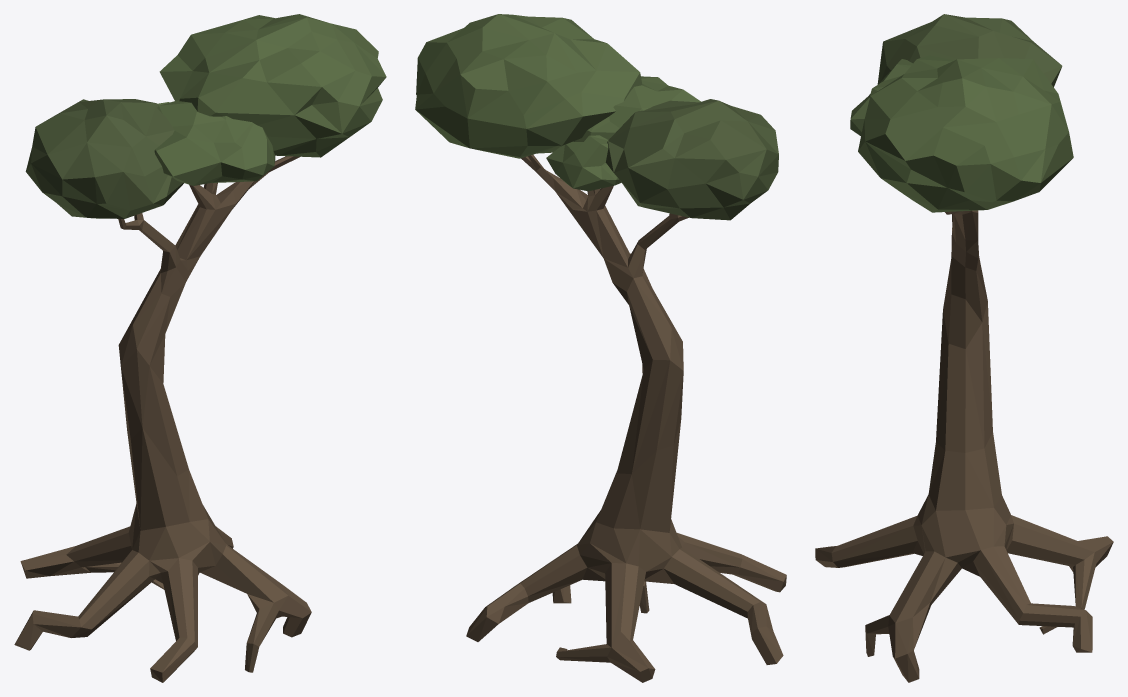
File: SM_Envr_Nature_Tree_Large_04.fbx
The picture shows the model from 3 angles, left to right: view 1: azimuth 30°, elevation 25°; view 2: azimuth 150°, elevation 25°; view 3: azimuth 270°, elevation 25°; orthographic projection. The views are drawn at different scales.
Parts seen in each view (by area): view 1: SM_Envr_Nature_Tree_Large_04; view 2: SM_Envr_Nature_Tree_Large_04; view 3: SM_Envr_Nature_Tree_Large_04.
Part boxes in pixels (left/top/right/bottom): SM_Envr_Nature_Tree_Large_04: left=14, top=14, right=386, bottom=682; SM_Envr_Nature_Tree_Large_04: left=415, top=14, right=786, bottom=682; SM_Envr_Nature_Tree_Large_04: left=815, top=14, right=1113, bottom=682.
Size of the model in its own units: 672 by 1081 by 465.
